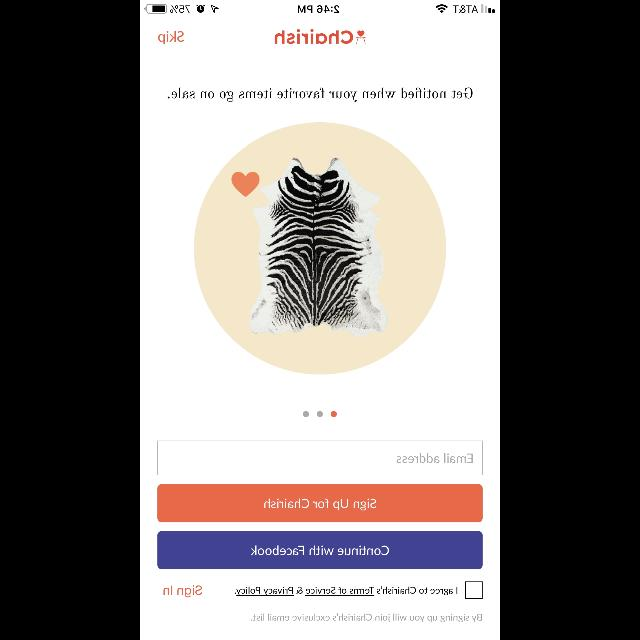checkbox: (466, 582, 482, 598)
image: (194, 123, 446, 375), (356, 31, 366, 44)
input: (158, 441, 482, 475)
pageindicator: (303, 411, 337, 417)
text: (168, 88, 472, 102), (235, 586, 458, 596), (251, 614, 481, 622), (275, 30, 353, 44), (396, 453, 472, 463), (164, 584, 202, 598), (158, 31, 184, 45)
textbutton: (158, 484, 482, 522), (158, 531, 482, 569)
uppertaskbar: (140, 0, 500, 14)
